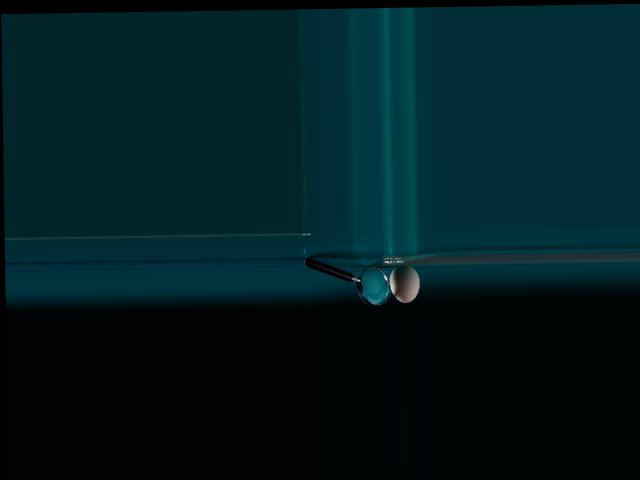egg: (389, 264, 420, 303)
